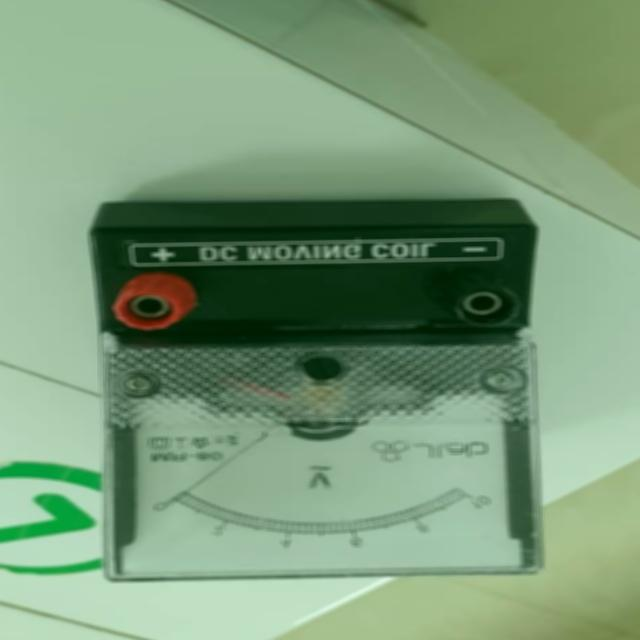Voltmeter: (80, 192, 570, 590)
